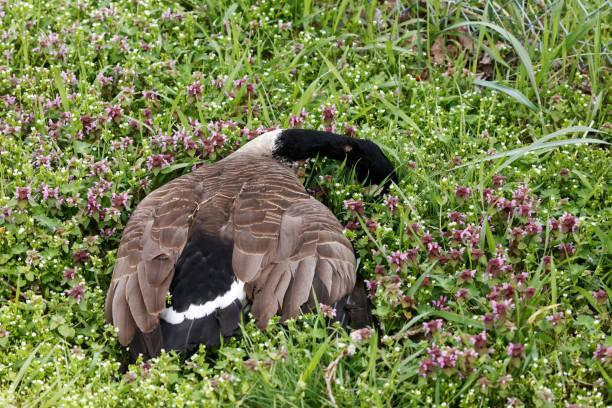Canadian-Goose: (107, 125, 401, 347)
